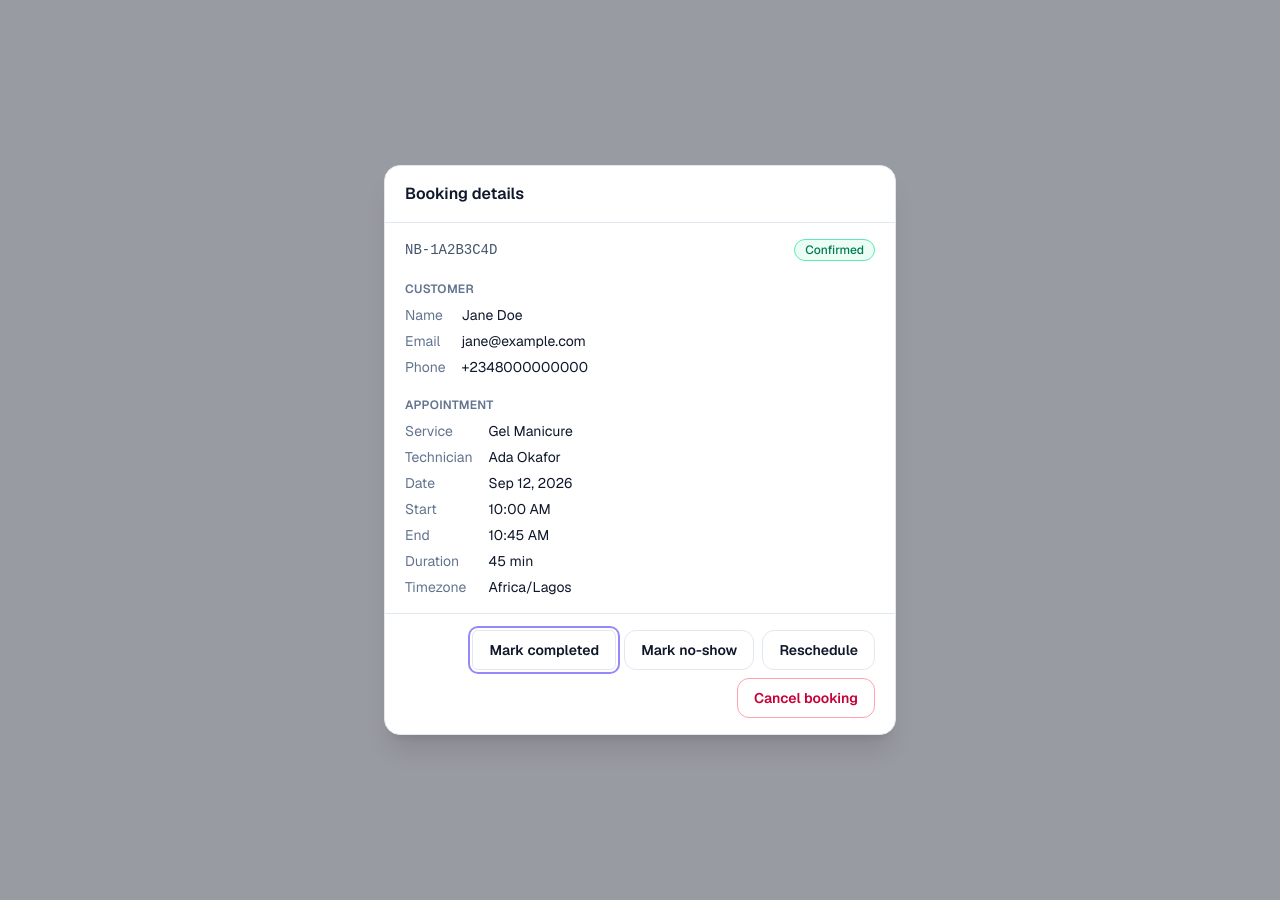
Scenario: BookingDetailDialog — reschedule permission (S12-BE) › opens the reschedule dialog showing the current booking
Click the button "Reschedule" at (819, 650), box [762,630,875,670]
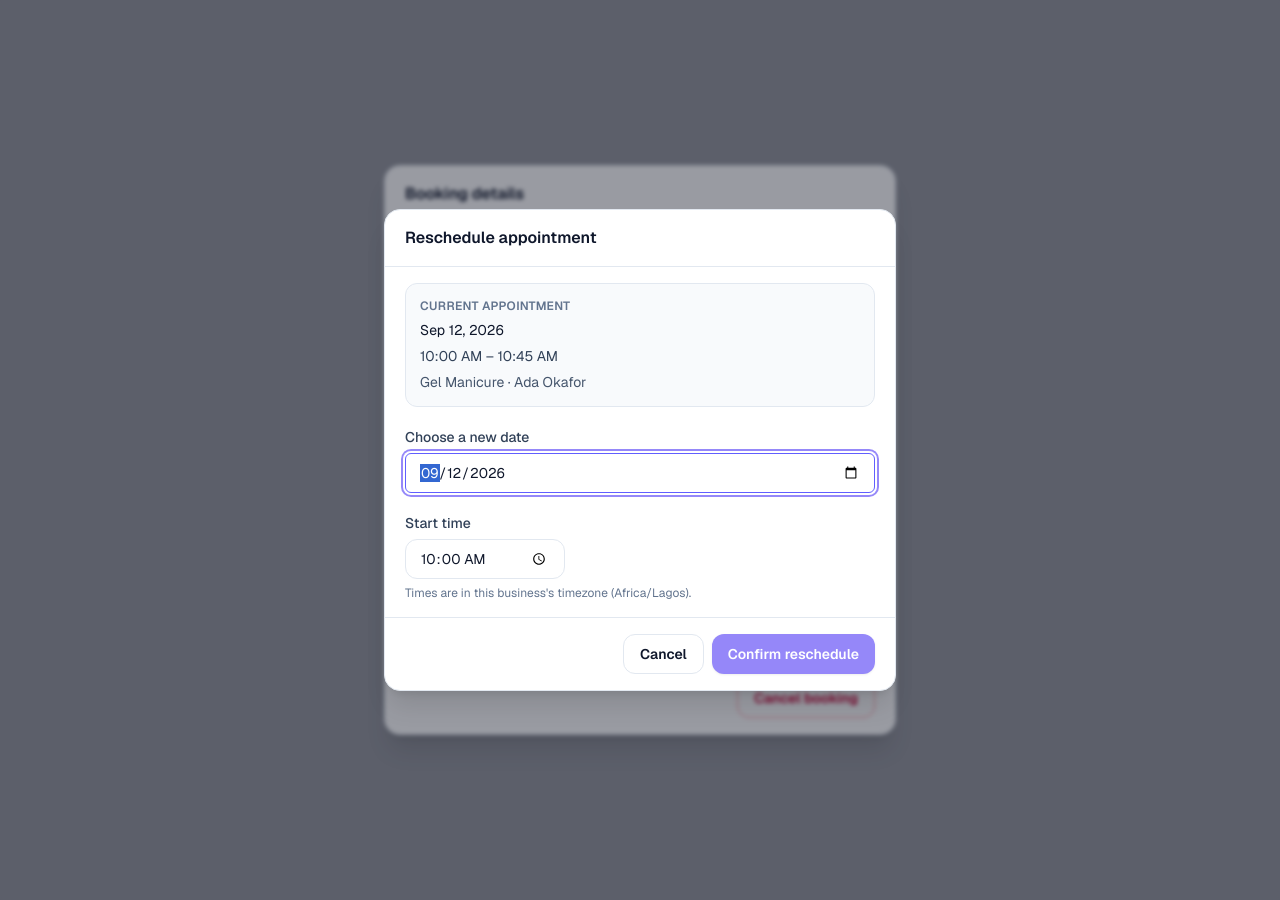
expect the dialog "Reschedule appointment" is shown: met, box [384,209,896,691]
expect the date field labelled "Choose a new date" holds "2026-09-12": met, box [405,453,875,493]
